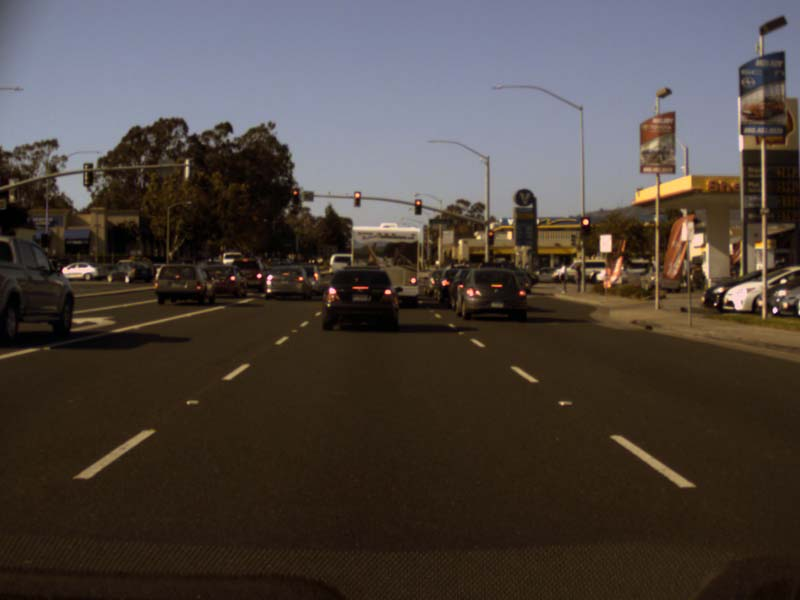Red: (580, 217, 589, 235), (354, 191, 360, 206), (292, 189, 298, 203), (415, 200, 421, 213), (488, 231, 493, 244)
